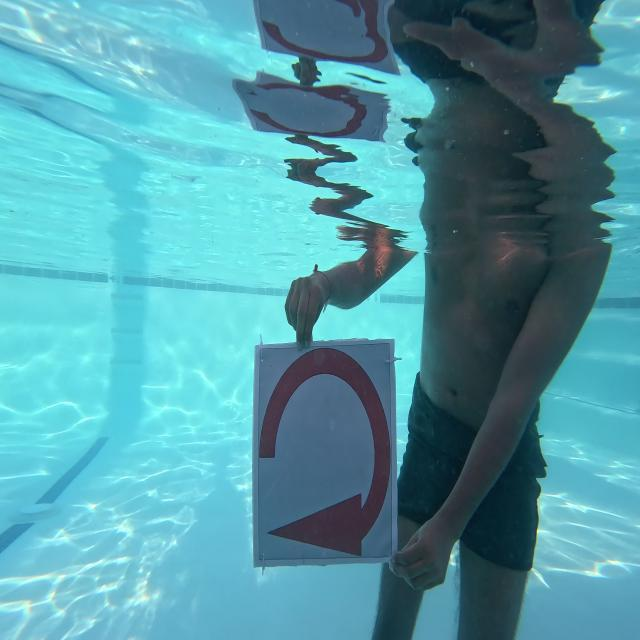red_side: (239, 329, 409, 589)
